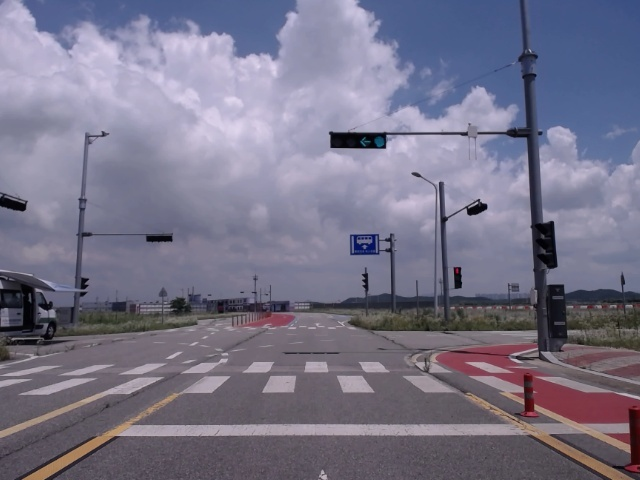all_green_4: (330, 131, 388, 149)
